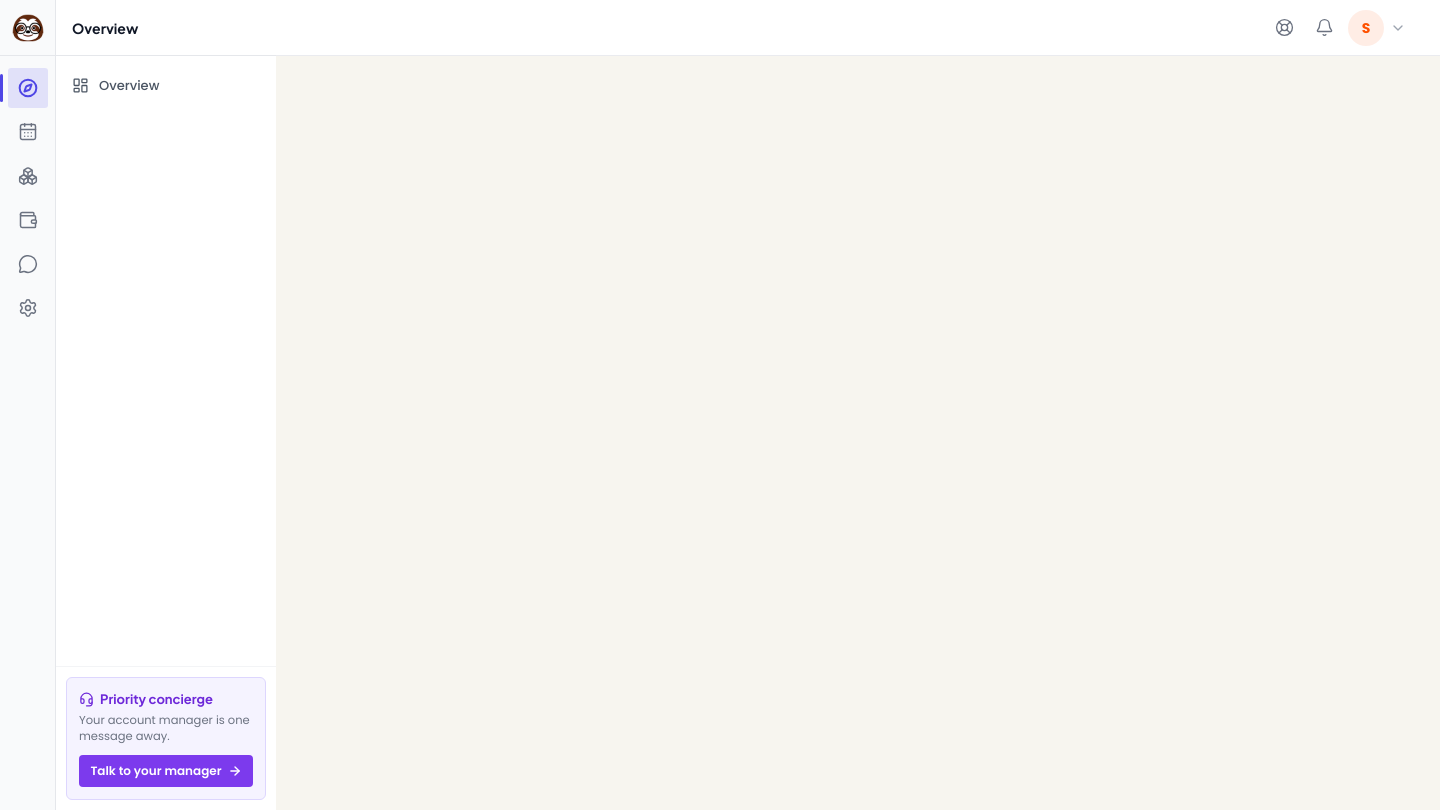
Test case: dashboard topbar profile menu › shows name + category + plan badge on open and never the email
The width and height of the screenshot is (1440, 810).
Click the button named "Profile menu" at {"x": 1377, "y": 28}, box 1346,8 -> 1408,48
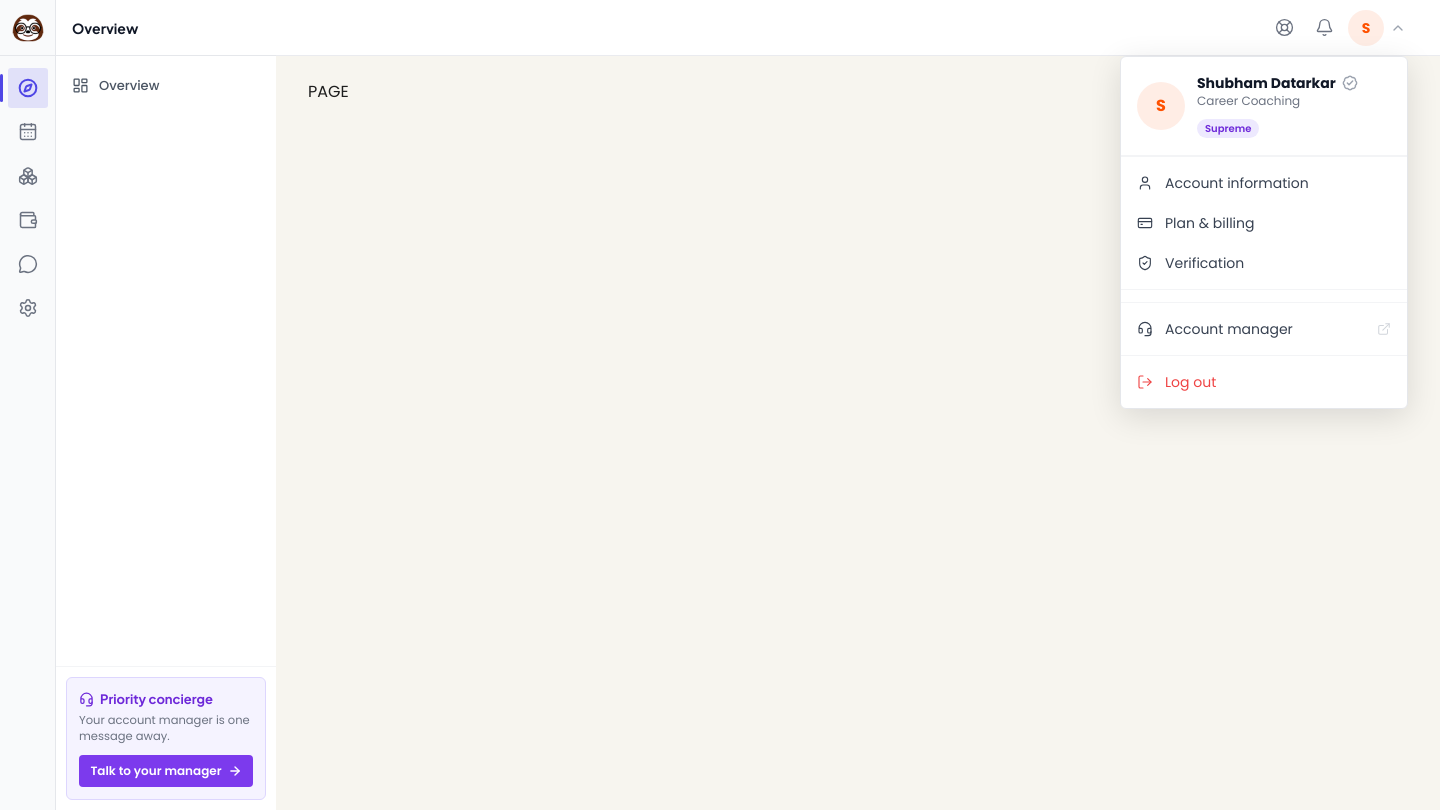
Now the text "Shubham Datarkar" is shown, box 1197,72 -> 1336,92
Now the text "Career Coaching" is shown, box 1197,92 -> 1300,108
Now the text "Supreme" is shown, box 1197,118 -> 1259,138
